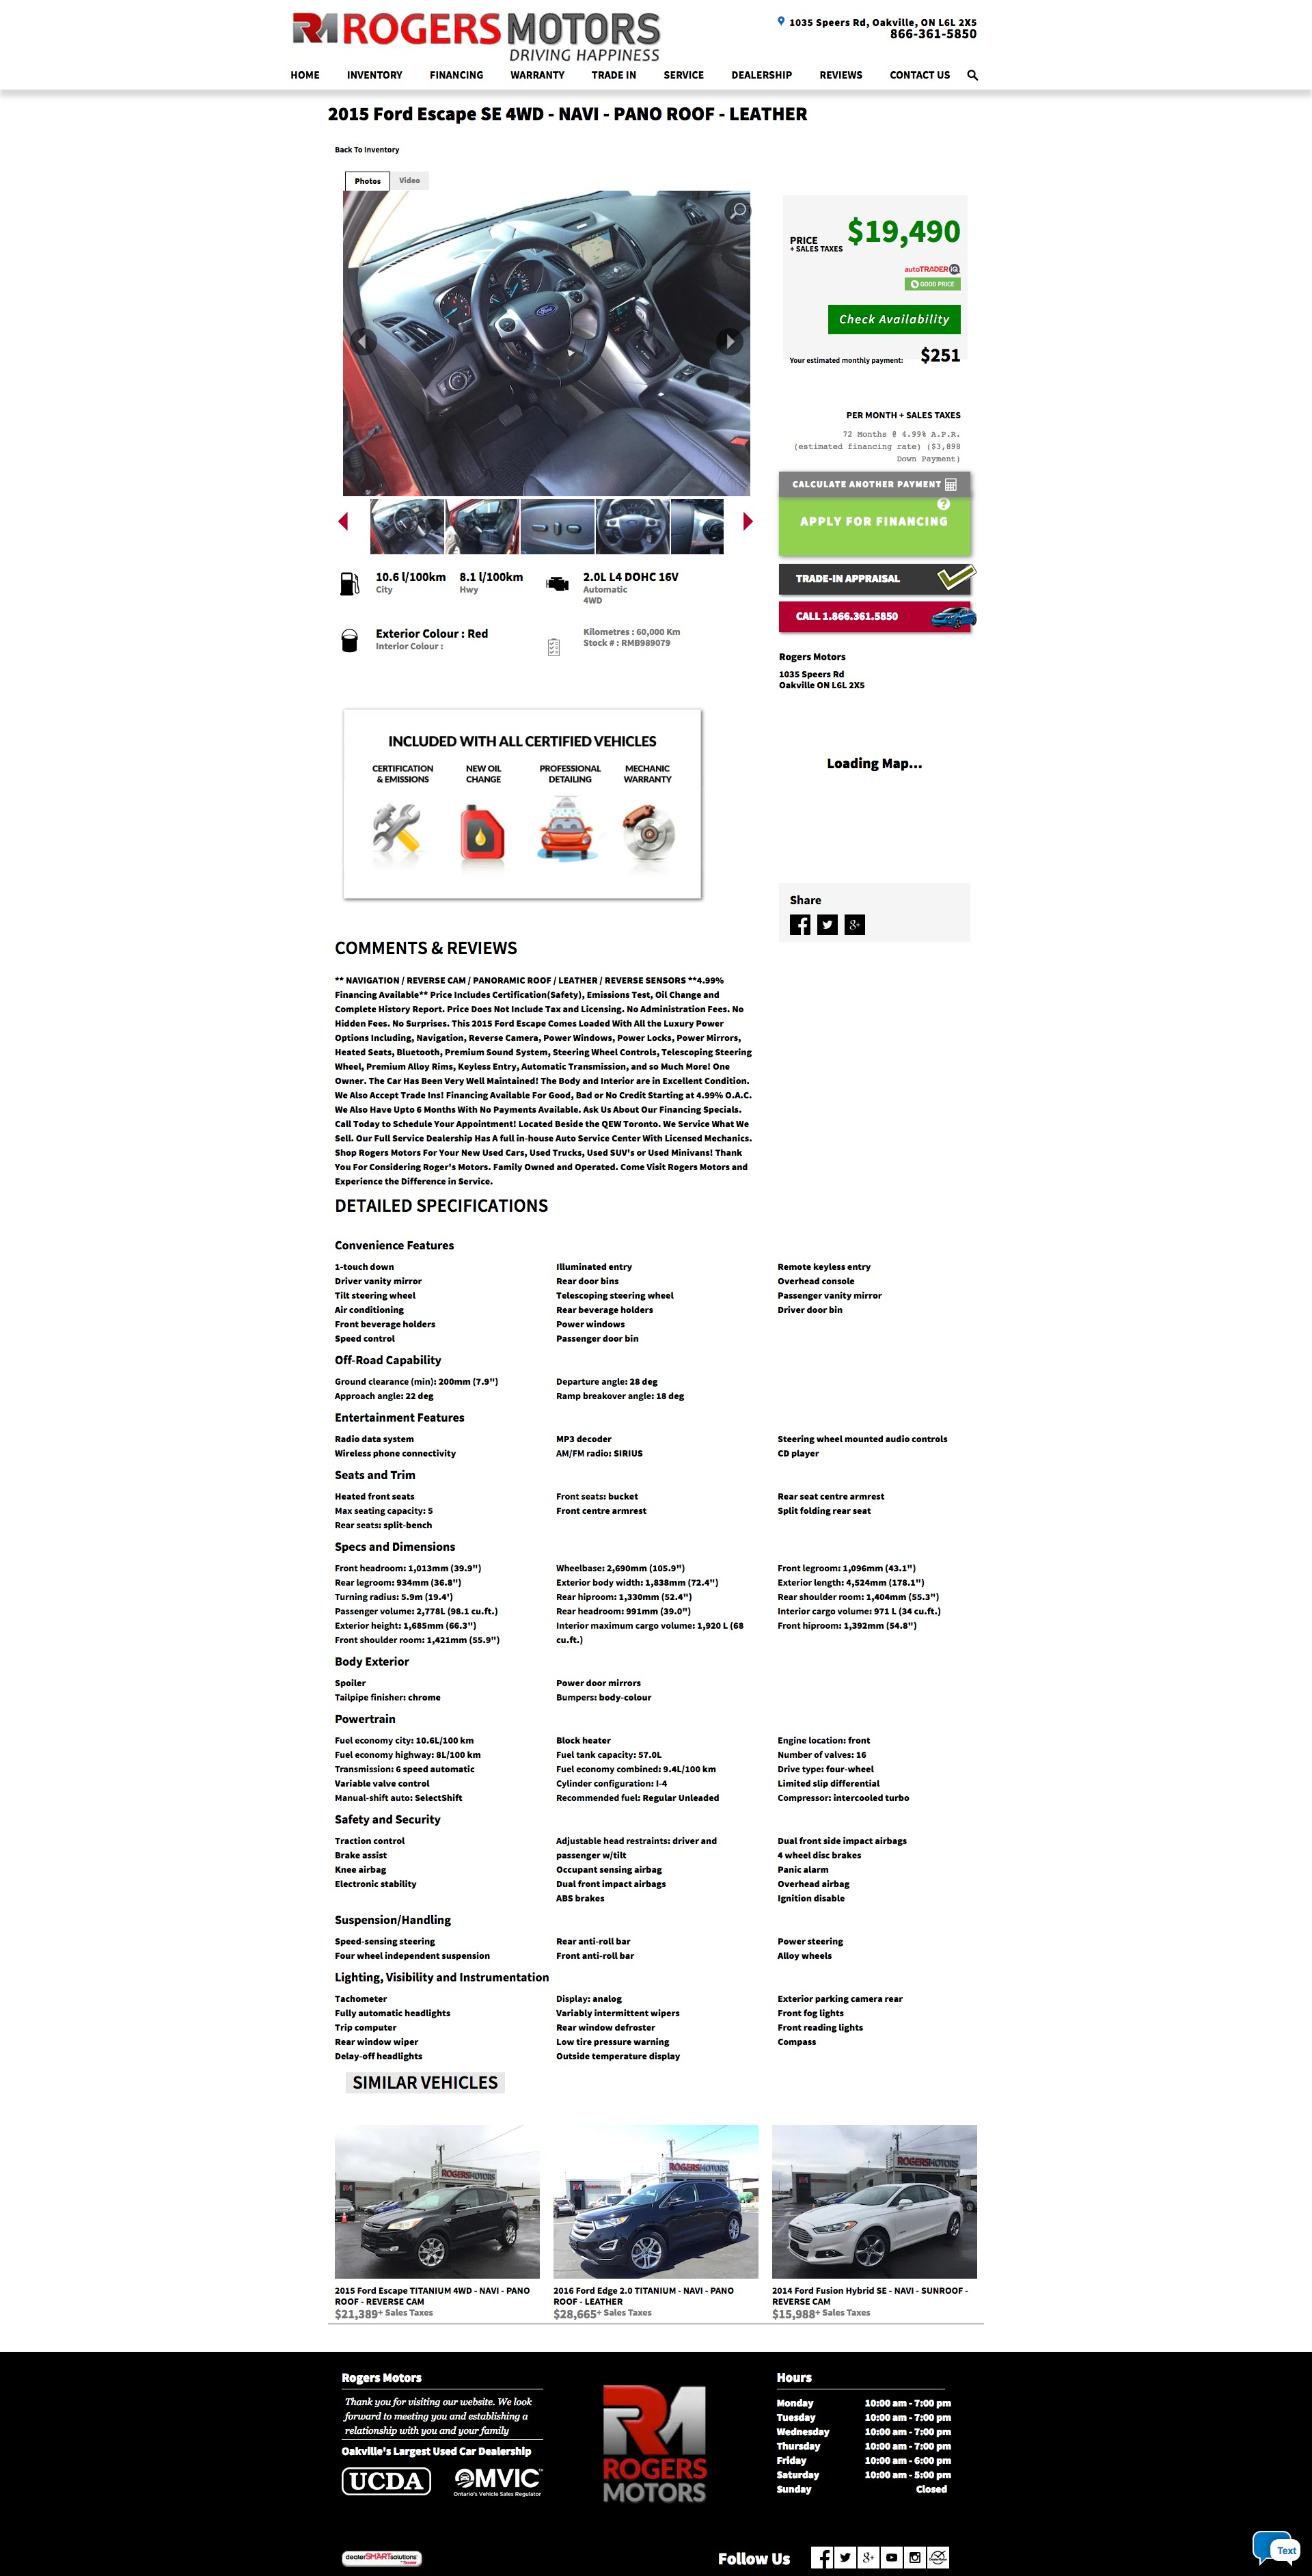car: (743, 511, 755, 532)
